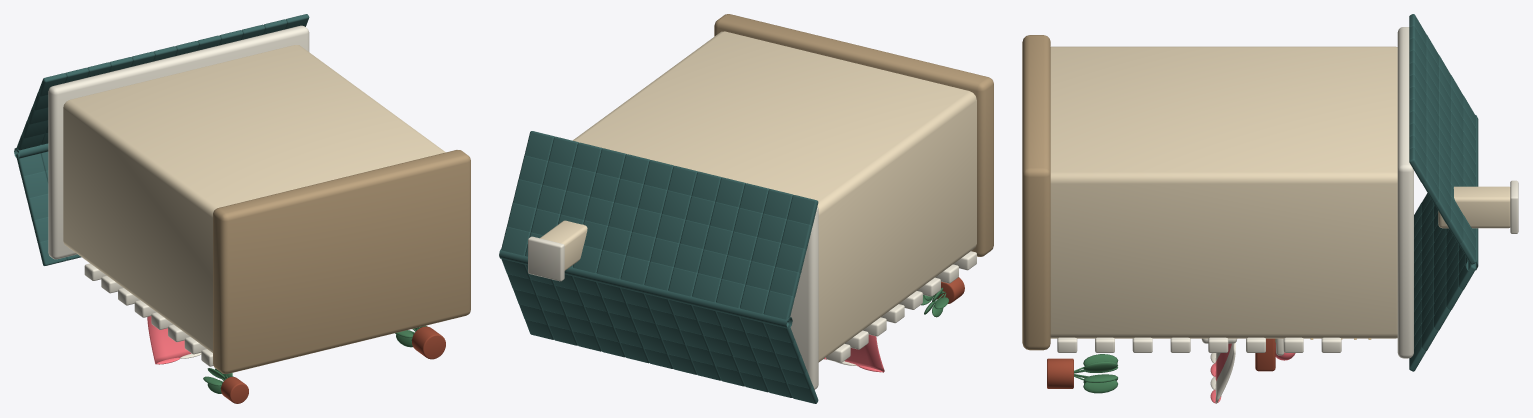
Rendered from BoulevardFacade1.fbx.
The picture shows the model from 3 angles, left to right: view 1: azimuth 30°, elevation 25°; view 2: azimuth 150°, elevation 25°; view 3: azimuth 270°, elevation 25°; orthographic projection. The views are drawn at different scales.
Parts seen in each view (by area): view 1: BoulevardFacade1; view 2: BoulevardFacade1; view 3: BoulevardFacade1.
Boxes of the visible parts, bbox=[...] form: BoulevardFacade1: bbox=[14, 14, 470, 403]; BoulevardFacade1: bbox=[499, 14, 993, 403]; BoulevardFacade1: bbox=[1022, 14, 1518, 403].
Size of the model in its own units: 2.94 by 2.42 by 4.21.
